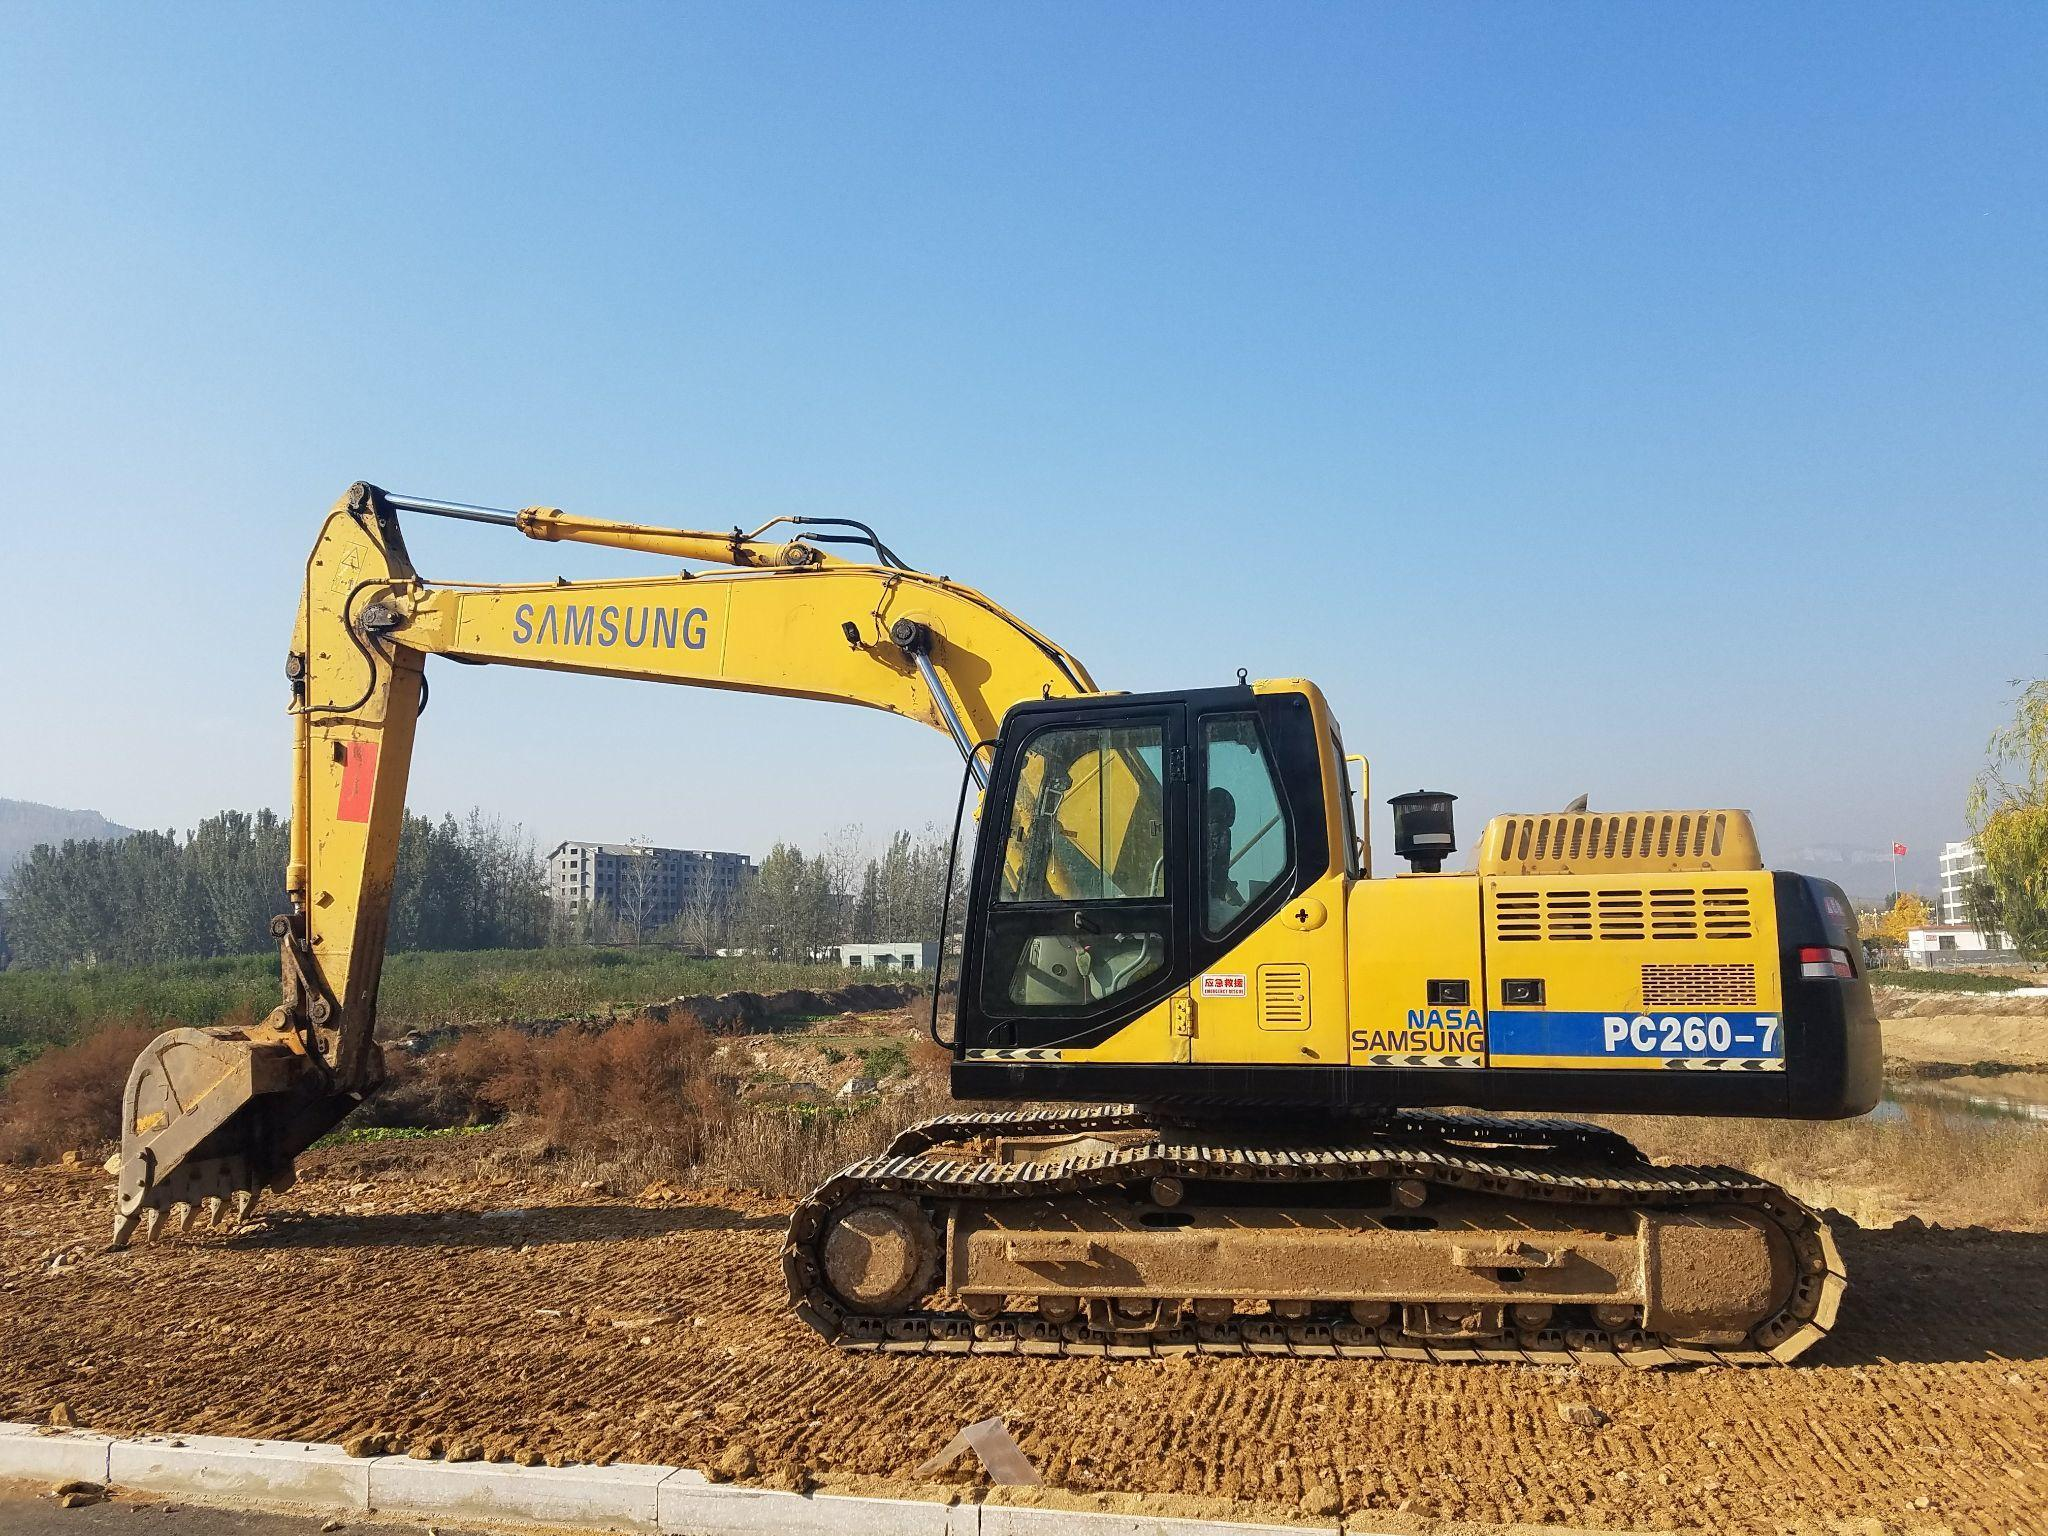excavator: (111, 494, 1829, 1238)
